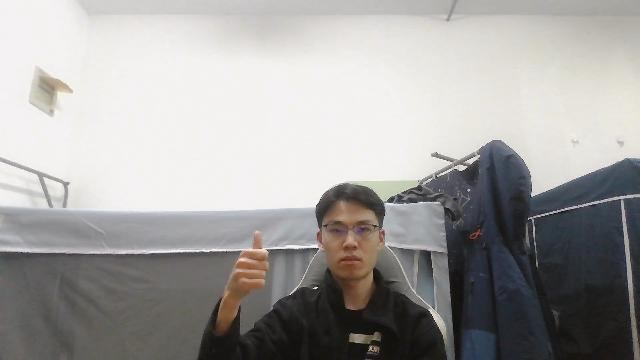good: (230, 228, 271, 298)
